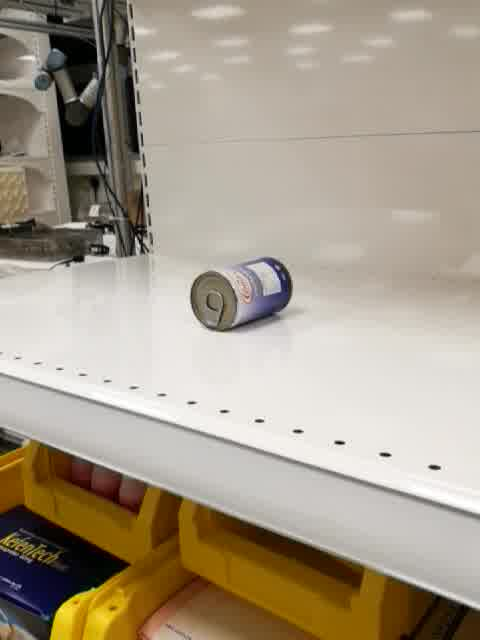sardine: (189, 256, 292, 333)
